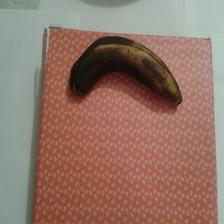Banana Rotten: (60, 27, 190, 131)
